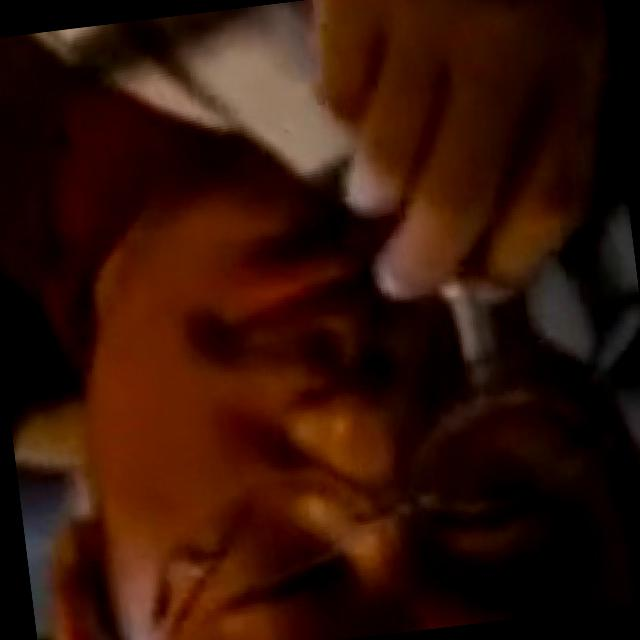cigarette: (428, 238, 522, 404)
